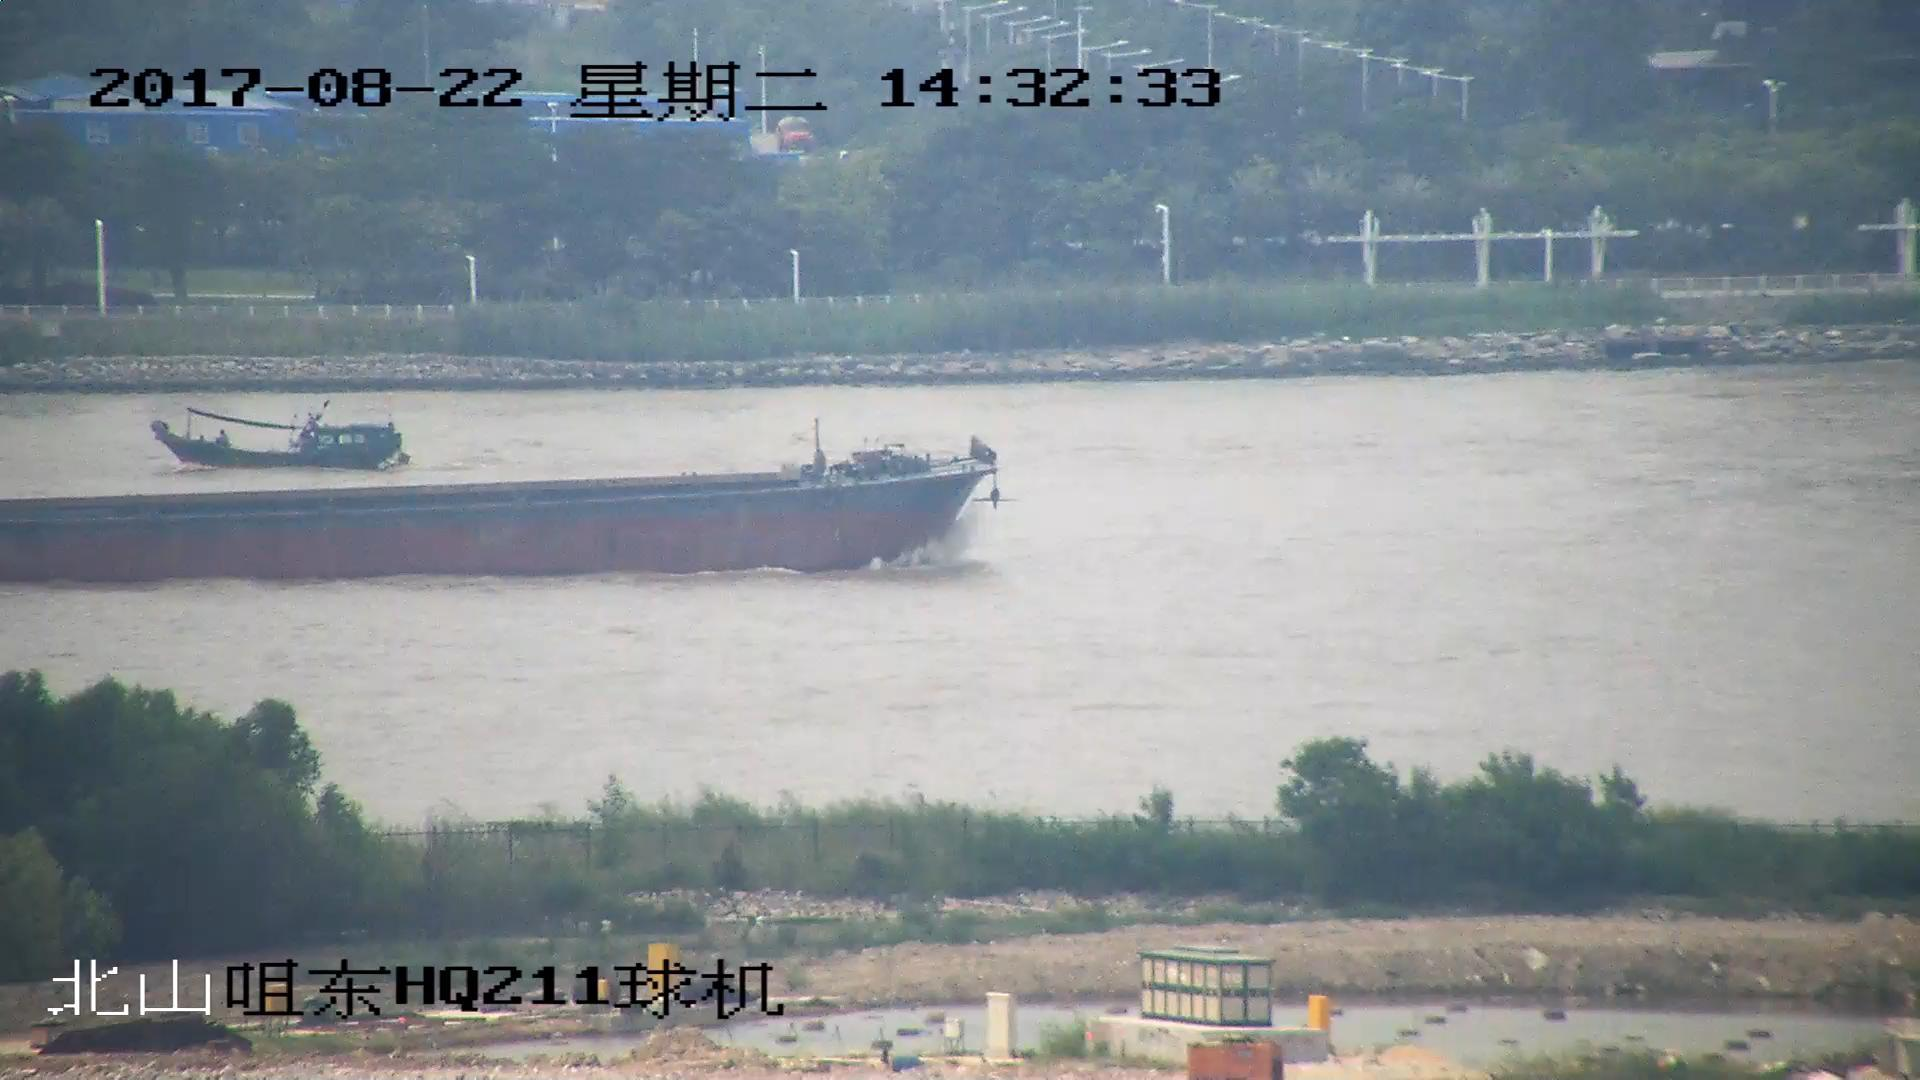Ship: (3, 430, 1005, 585), (154, 404, 415, 473)
